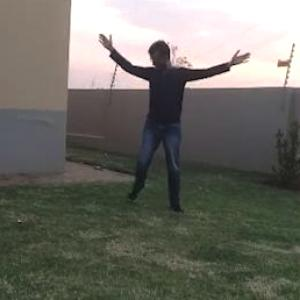takeoff: (95, 15, 258, 206)
